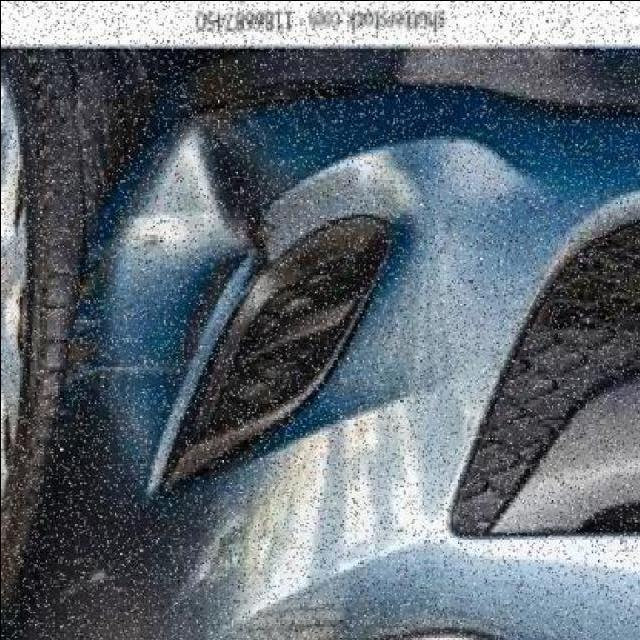front-bumper-dent: (2, 85, 640, 525)
